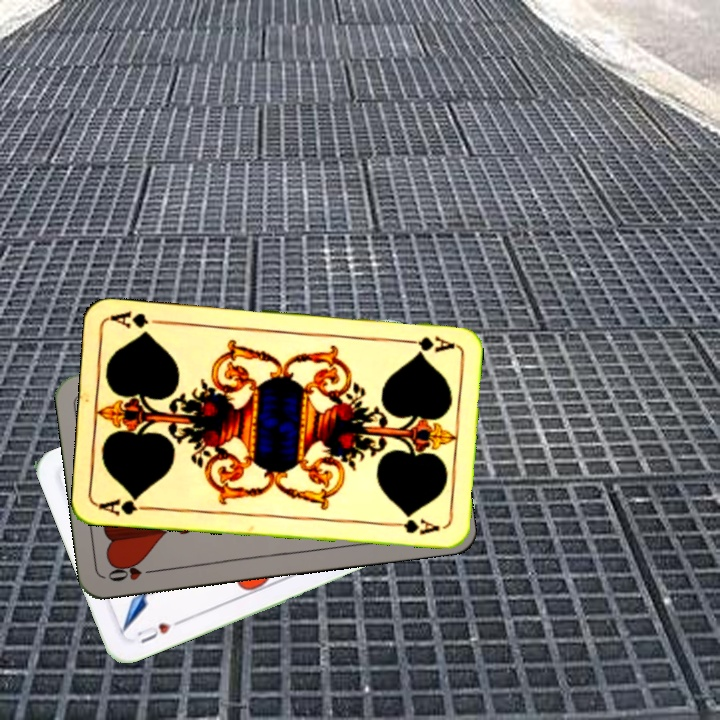GA: (96, 492, 155, 518), (398, 332, 457, 354)
HO: (104, 559, 162, 584)
HU: (132, 615, 185, 646)
